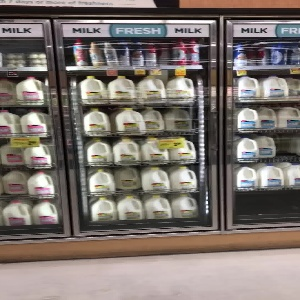void: (233, 192, 300, 218), (274, 133, 299, 158)
